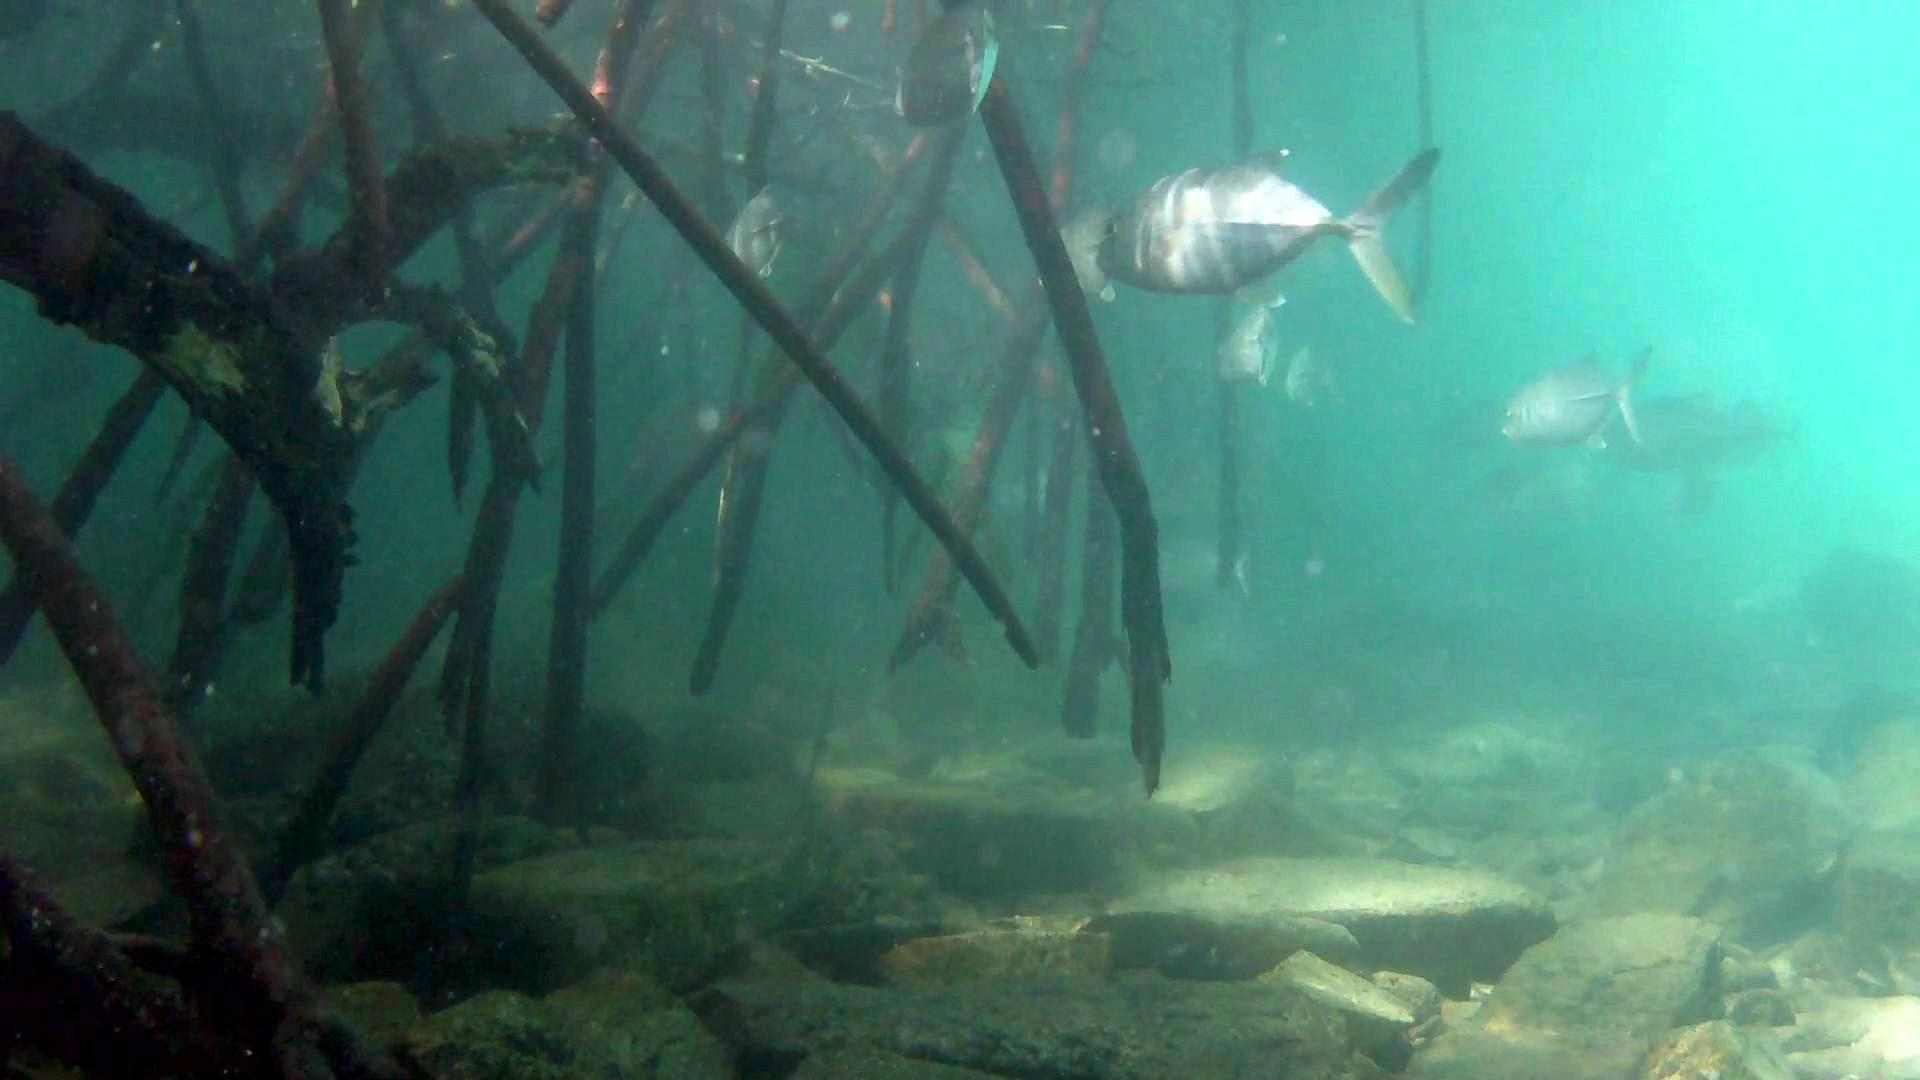caranx: (1081, 131, 1456, 340)
